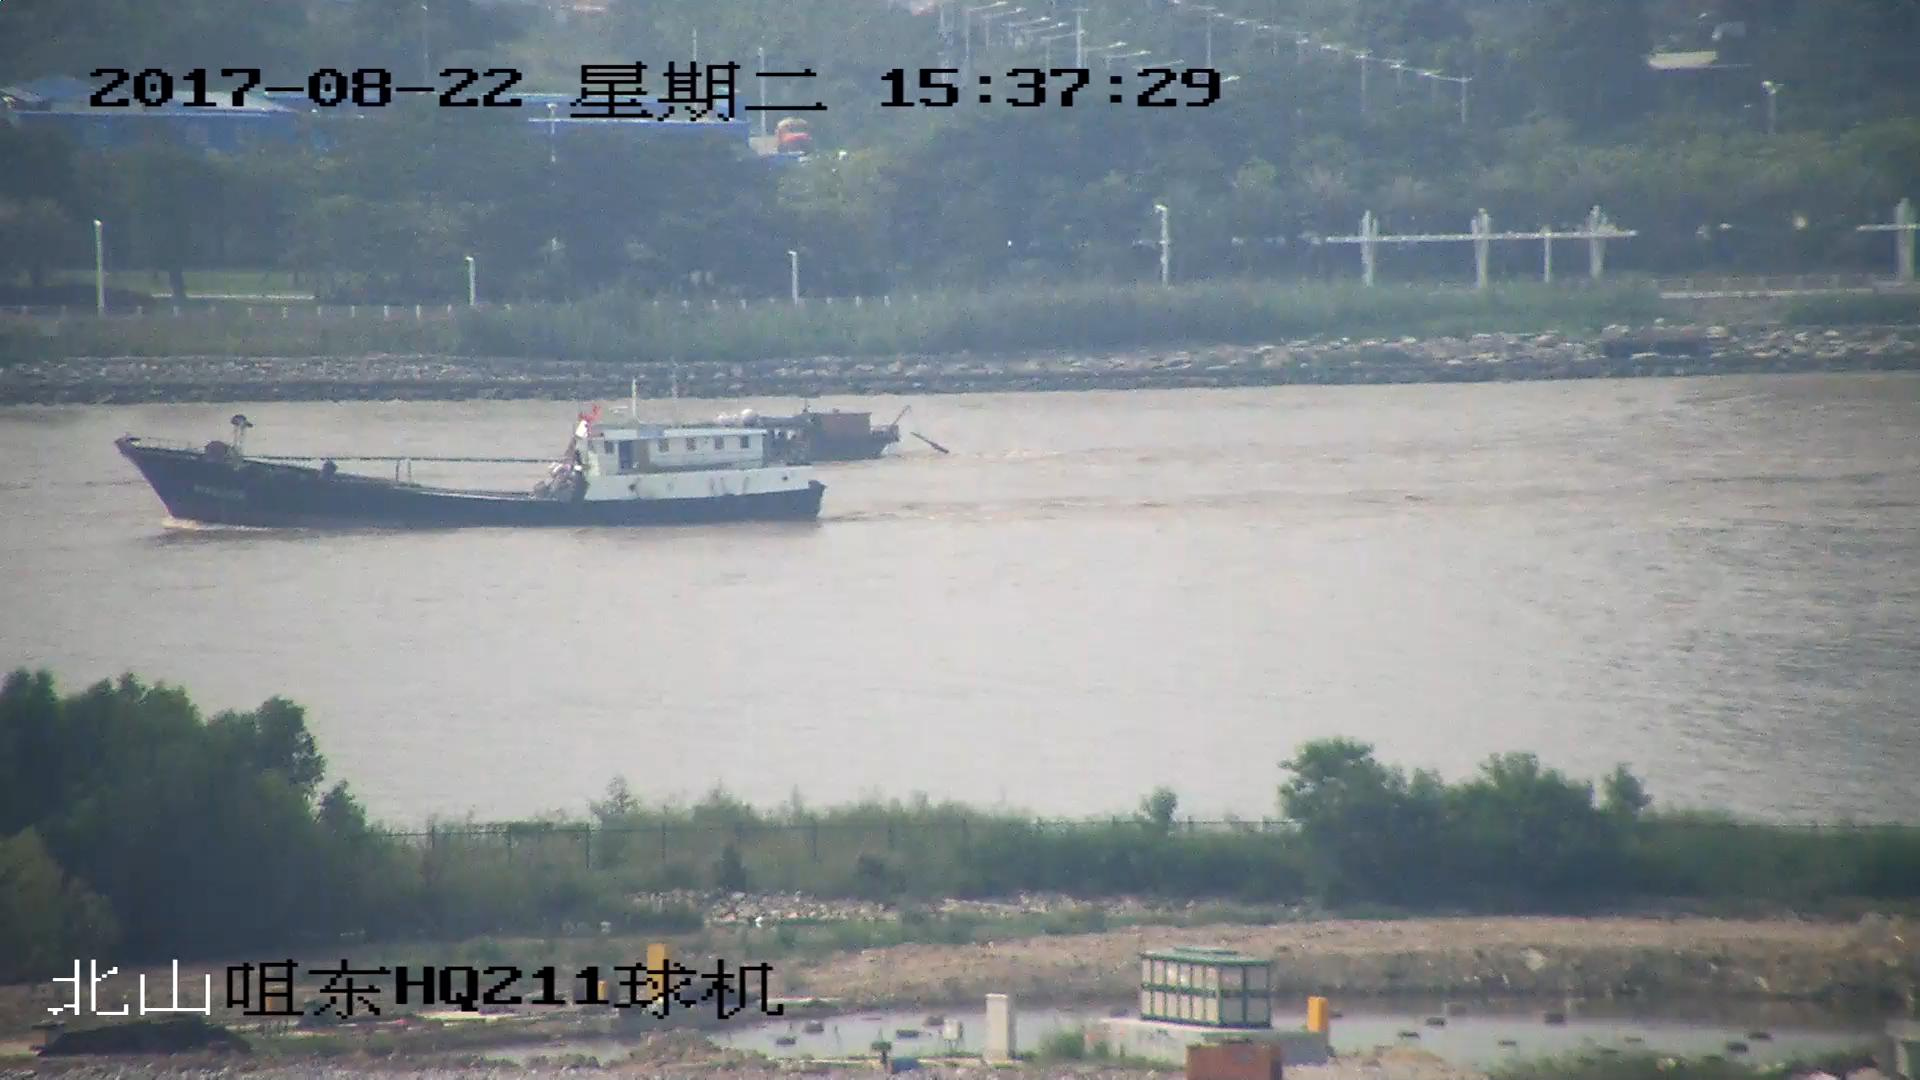fishing boat: (119, 412, 829, 531), (648, 403, 953, 465)
